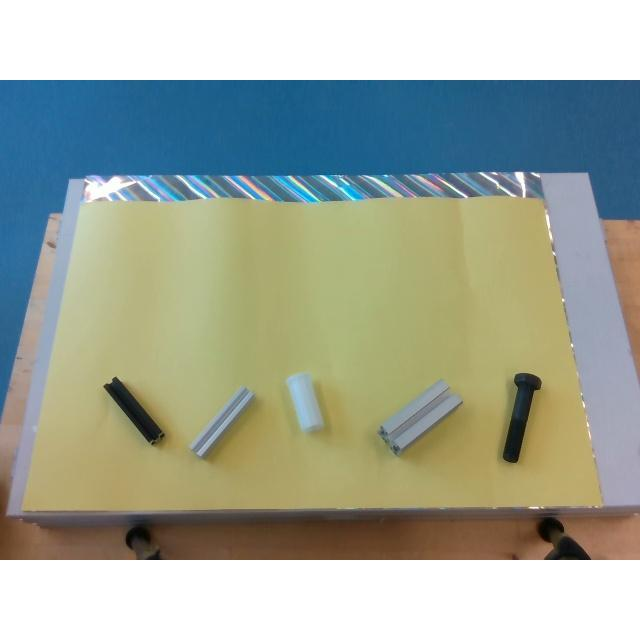F20_20_B: (104, 376, 164, 444)
F20_20_G: (190, 387, 254, 458)
M20_100: (502, 373, 542, 462)
S40_40_G: (378, 380, 462, 456)
Spacer: (285, 372, 323, 432)
